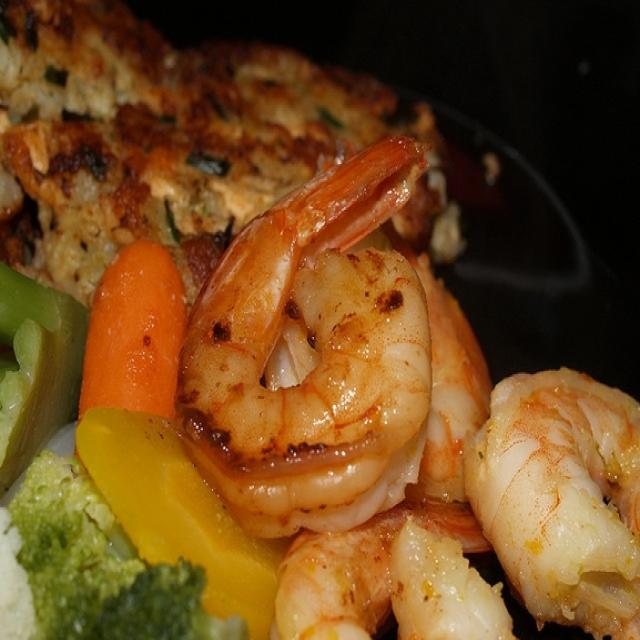炸货点心: (20, 31, 636, 628)
熟制海鲜: (20, 31, 636, 628)
